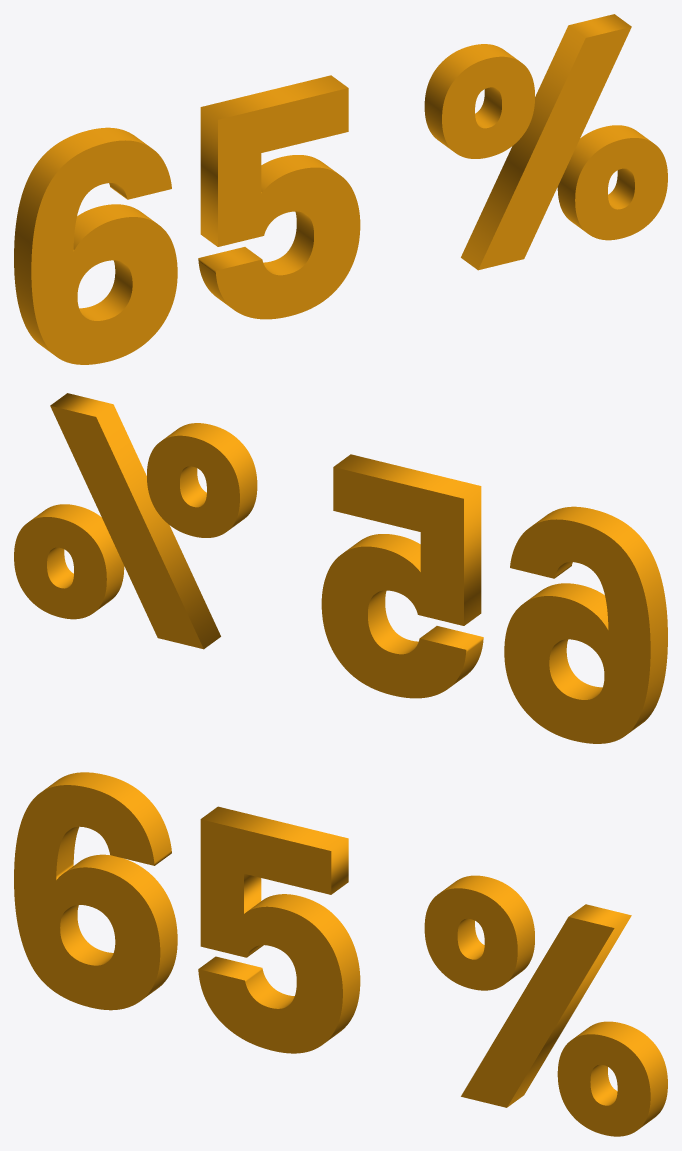
The model's file is Bina3yuzde.gltf.
3 views of the same model, one above another, from view 1: azimuth 30°, elevation 25°; view 2: azimuth 150°, elevation 25°; view 3: azimuth 330°, elevation 25° (orthographic).
Parts seen in each view (by area): view 1: simsekyazi.005; view 2: simsekyazi.005; view 3: simsekyazi.005.
Boxes of the visible parts, box(x1,y1,x2,y2) form: simsekyazi.005: box(14, 14, 667, 364); simsekyazi.005: box(14, 393, 667, 743); simsekyazi.005: box(14, 772, 667, 1136).
Size of the model in its own units: 0.0963 by 0.032 by 0.00455.
